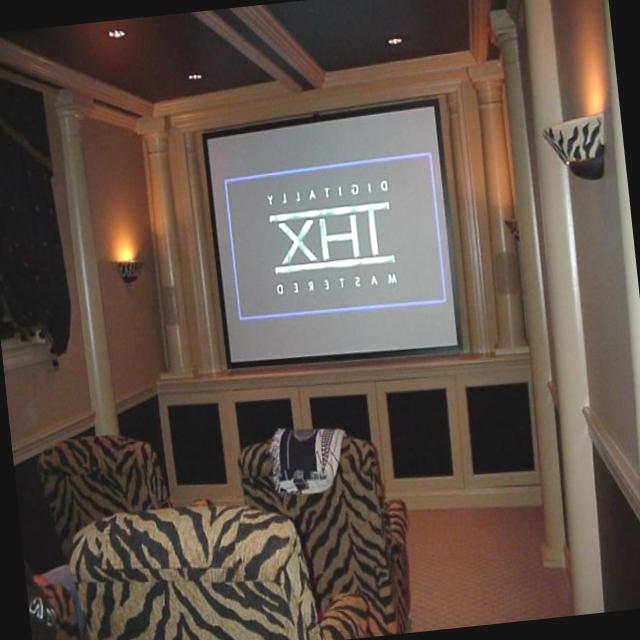cupboard: (155, 335, 547, 542)
lamps: (116, 256, 146, 283)
